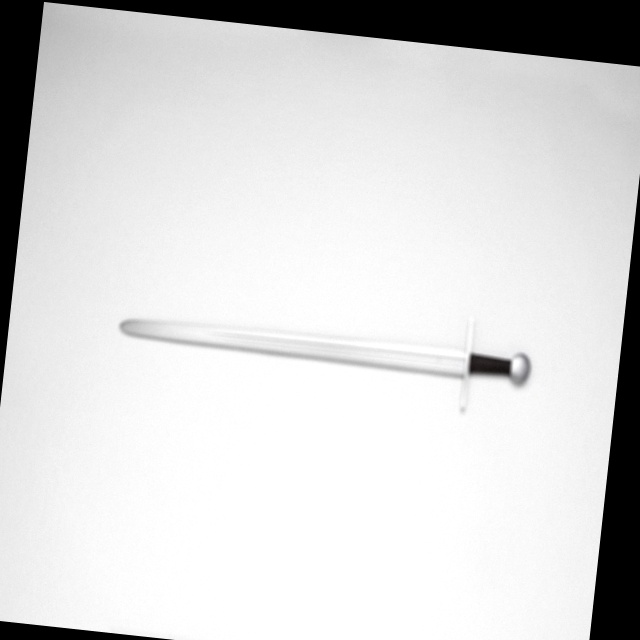Sharp-Object: (114, 301, 542, 397)
